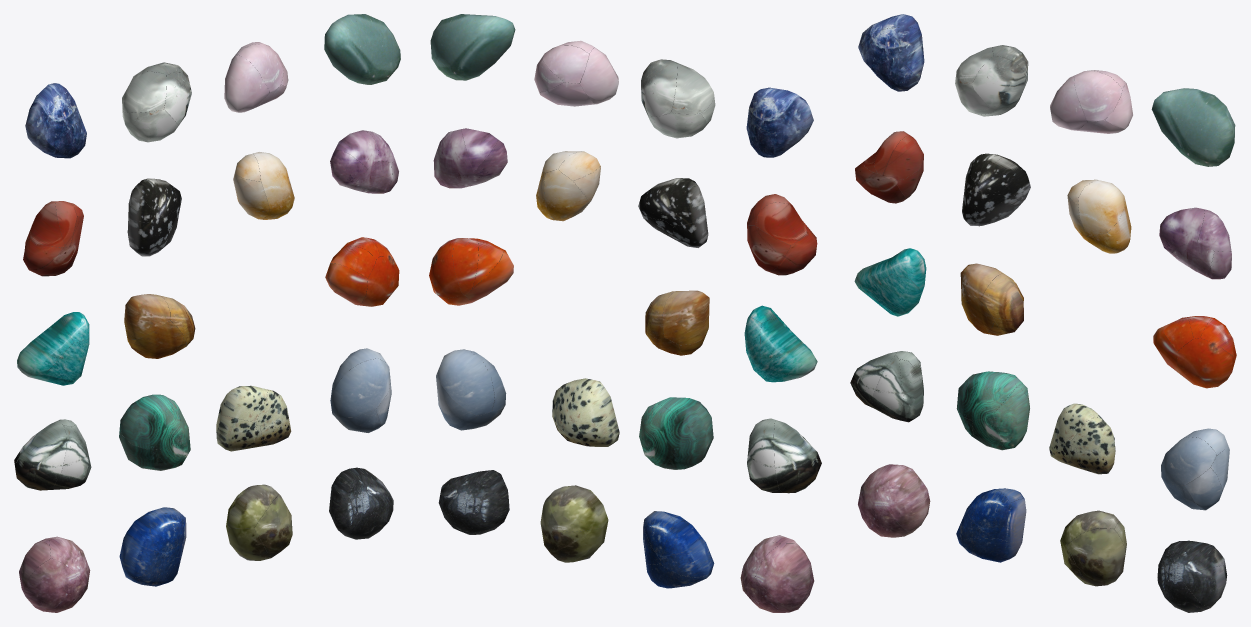
The model's file is debros.fbx.
3 views of the same model, side by side, from view 1: azimuth 30°, elevation 25°; view 2: azimuth 150°, elevation 25°; view 3: azimuth 330°, elevation 25° (orthographic).
Visible parts, largest first — view 1: Malachite_cell.002, Aventure, Angelite_cell.001, Hematite_cell.001, Lepidolite_cell.002, RoseQuartz_cell.004, Amazonite_cell.001, Aventure_cell.003, Lapis Lazuli_cell, Tiger Eye_cell.003, ClearQuartz_cell.003, Serpentine_cell (+46 smaller); view 2: Aventure, Malachite_cell.001, Angelite_cell.004, Lepidolite_cell.001, Hematite_cell.001, Dalmatian Stone_cell.004, Amazonite_cell.001, Tiger Eye_cell.003, Lapis Lazuli_cell, Serpentine_cell, Sodalite_cell.001, Black Onyx_cell.002 (+40 smaller); view 3: Aventure, Serpentine_cell.003, Lepidolite_cell.003, Carnelian_cell.002, ClearQuartz_cell.002, Malachite_cell.002, Citrine_cell, Angelite_cell.001, RoseQuartz_cell, Black Onyx_cell.004, Aventure_cell.003, Malachite_cell.003 (+47 smaller).
Boxes of the visible parts, bbox=[...] form: Malachite_cell.002: bbox=[120, 395, 180, 449]; Aventure: bbox=[324, 14, 400, 83]; Angelite_cell.001: bbox=[331, 358, 389, 417]; Hematite_cell.001: bbox=[14, 424, 66, 490]; Lepidolite_cell.002: bbox=[24, 558, 85, 612]; RoseQuartz_cell.004: bbox=[224, 55, 269, 112]; Amazonite_cell.001: bbox=[17, 318, 73, 376]; Aventure_cell.003: bbox=[324, 17, 379, 75]; Lapis Lazuli_cell: bbox=[119, 515, 158, 577]; Tiger Eye_cell.003: bbox=[124, 294, 169, 339]; ClearQuartz_cell.003: bbox=[122, 71, 166, 112]; Serpentine_cell: bbox=[227, 484, 278, 528]; Aventure: bbox=[431, 17, 515, 80]; Malachite_cell.001: bbox=[639, 403, 696, 469]; Angelite_cell.004: bbox=[437, 349, 494, 415]; Lepidolite_cell.001: bbox=[756, 543, 810, 606]; Hematite_cell.001: bbox=[773, 420, 821, 493]; Dalmatian Stone_cell.004: bbox=[559, 378, 612, 435]; Amazonite_cell.001: bbox=[760, 318, 817, 375]; Tiger Eye_cell.003: bbox=[662, 290, 709, 345]; Lapis Lazuli_cell: bbox=[660, 522, 714, 577]; Serpentine_cell: bbox=[548, 485, 607, 531]; Sodalite_cell.001: bbox=[749, 87, 811, 133]; Black Onyx_cell.002: bbox=[445, 484, 509, 533]; Aventure: bbox=[1152, 89, 1234, 166]; Serpentine_cell.003: bbox=[1067, 528, 1125, 586]; Lepidolite_cell.003: bbox=[872, 465, 927, 532]; Carnelian_cell.002: bbox=[1177, 338, 1234, 388]; ClearQuartz_cell.002: bbox=[972, 56, 1025, 109]; Malachite_cell.002: bbox=[957, 371, 1016, 420]; Citrine_cell: bbox=[1078, 180, 1124, 236]; Angelite_cell.001: bbox=[1161, 437, 1216, 485]; RoseQuartz_cell: bbox=[1074, 70, 1122, 121]; Black Onyx_cell.004: bbox=[1161, 540, 1224, 577]; Aventure_cell.003: bbox=[1151, 88, 1198, 150]; Malachite_cell.003: bbox=[993, 387, 1029, 449].
Size of the model in its own units: 640 by 832 by 102.
